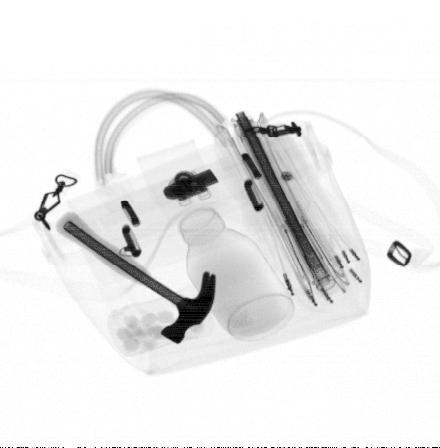Hammer: (55, 211, 218, 345)
